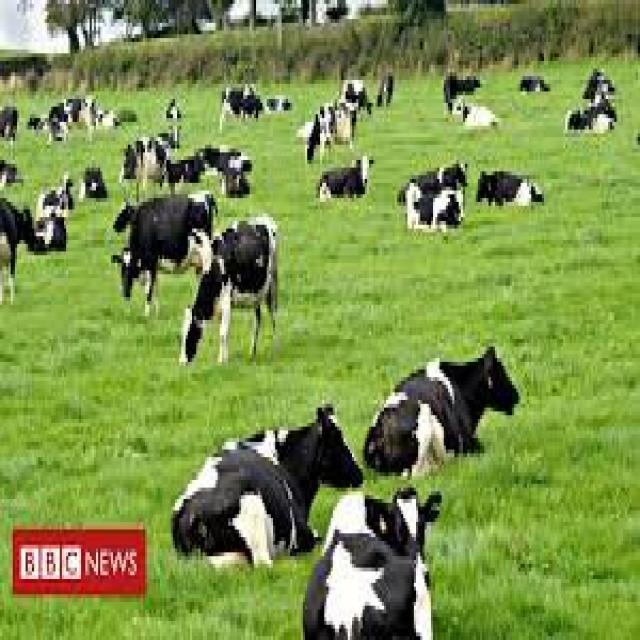cow: (168, 418, 388, 552), (388, 350, 531, 440), (201, 252, 267, 342)
